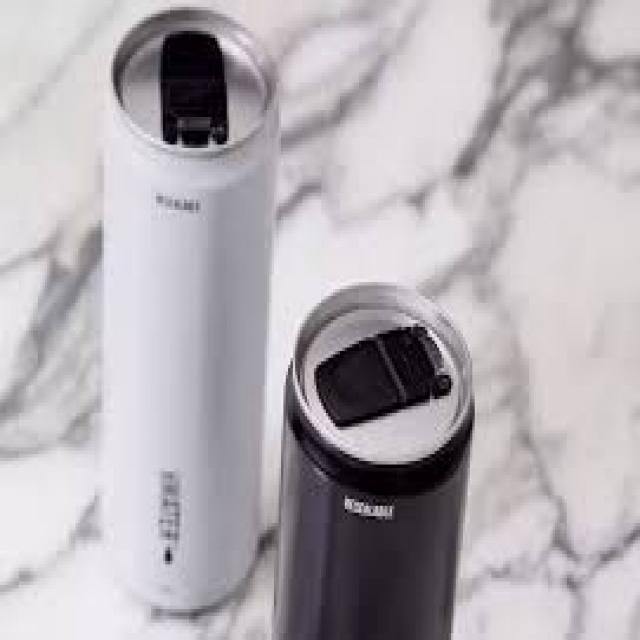recyclable: (97, 1, 280, 614), (275, 283, 478, 640)
